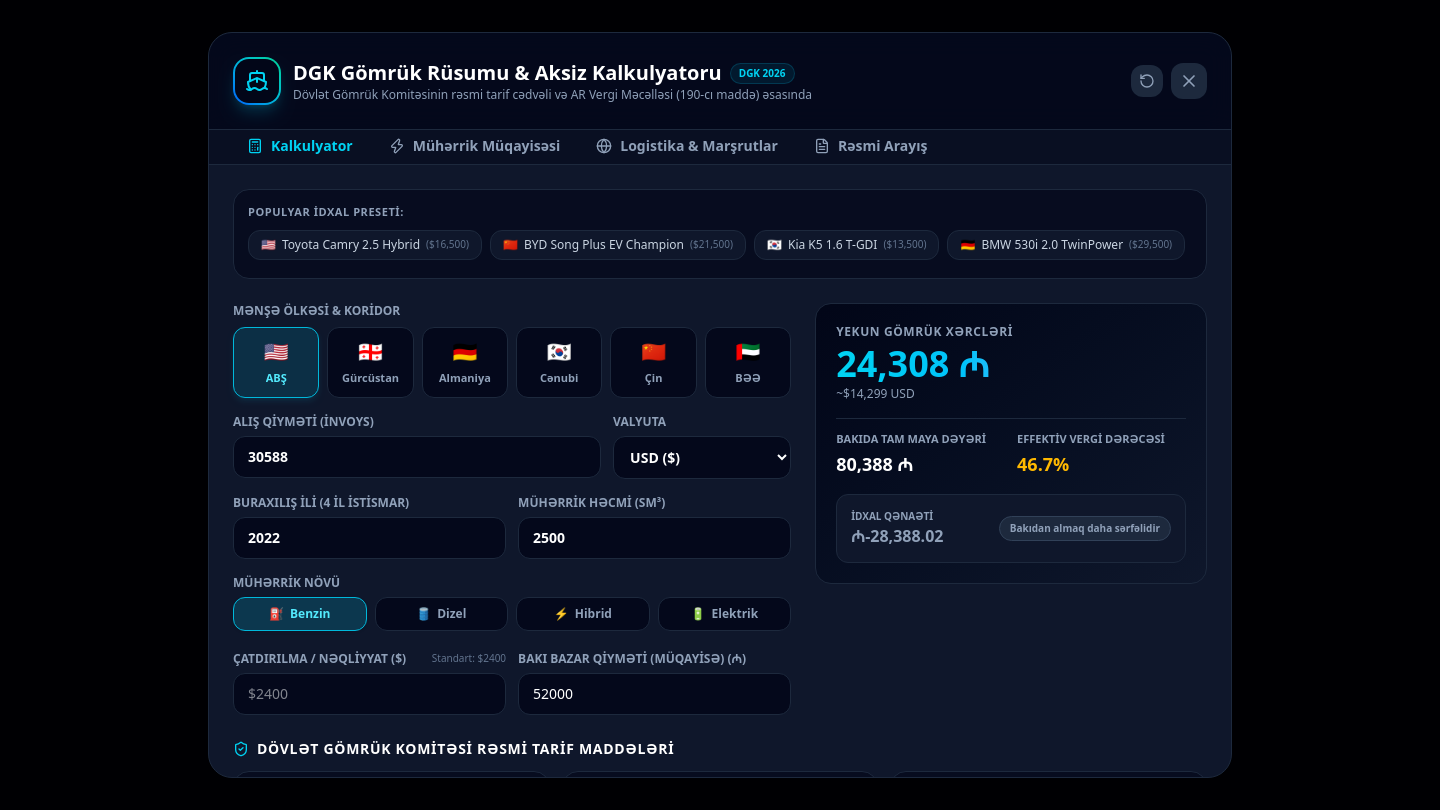
CustomsCalculatorModal Component › applies quick vehicle presets when clicked
Click the text "BYD Song Plus EV Champion" at (604, 245), box 524,237 -> 684,253
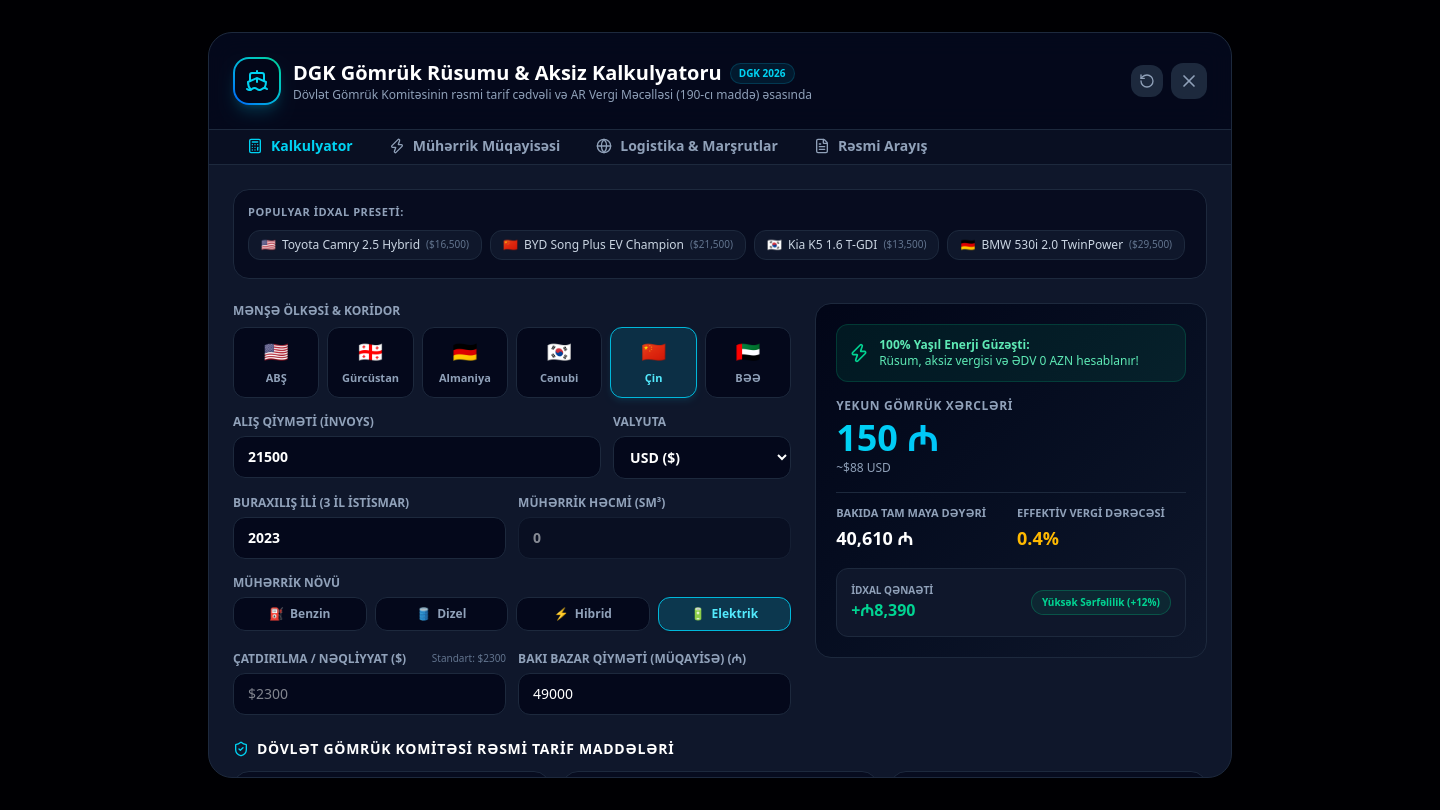
Now the text "100% Yaşıl Enerji Güzəşti:" is shown, box 879,336 -> 1030,353
